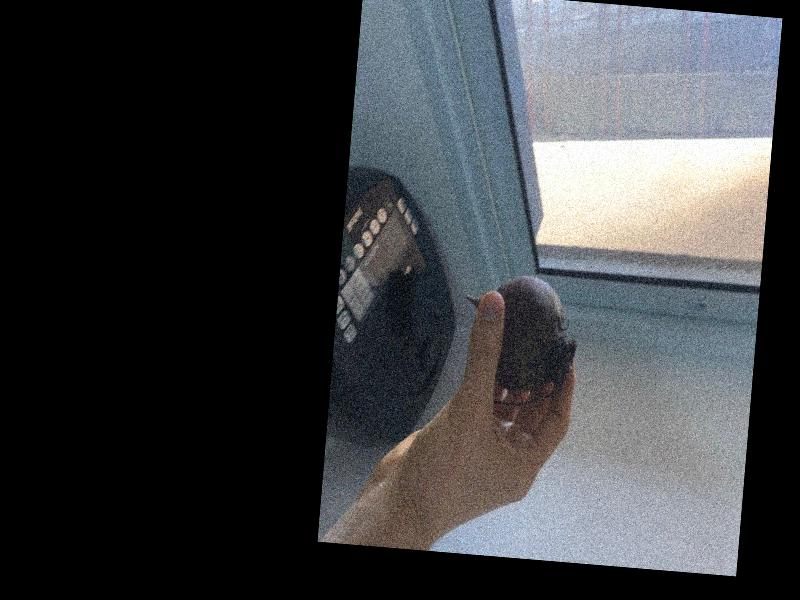Beet: (458, 271, 581, 408)
